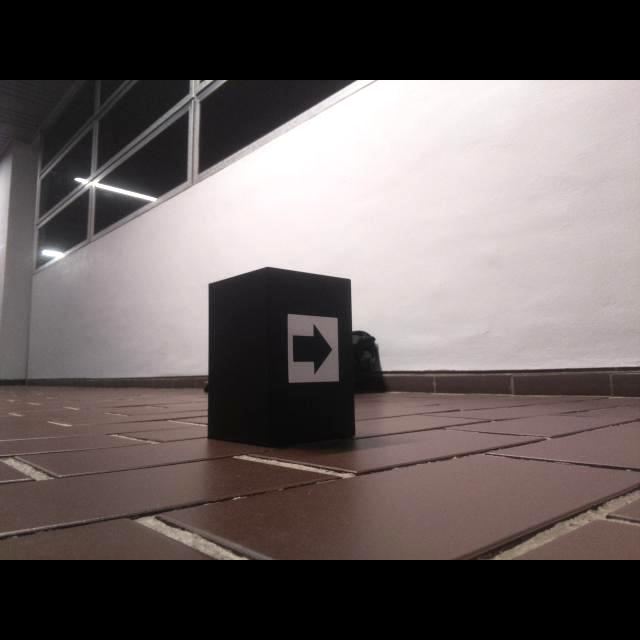RIGHT: (292, 321, 333, 376)
